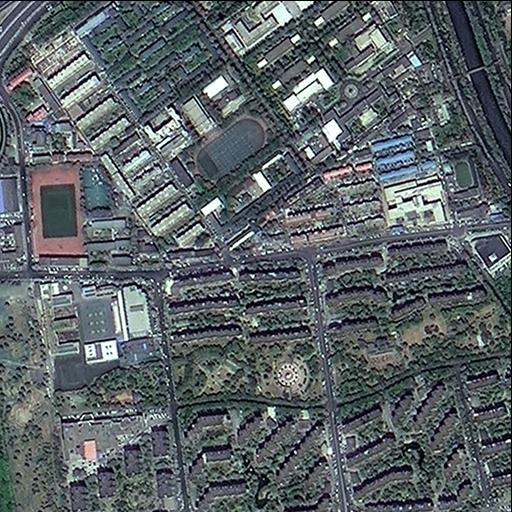school: (33, 273, 163, 392), (27, 159, 165, 269), (440, 149, 490, 202)
